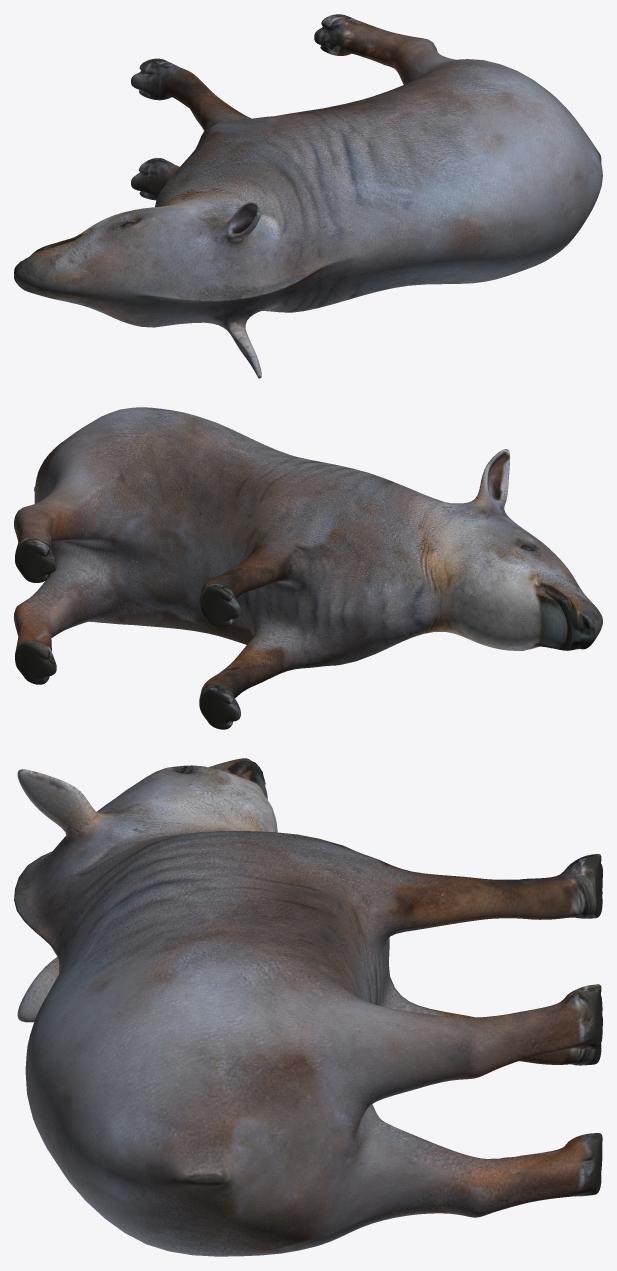
File: 12277_Tapir_v1_L2.obj
The picture shows the model from 3 angles, top to bottom: view 1: azimuth 30°, elevation 25°; view 2: azimuth 150°, elevation 25°; view 3: azimuth 270°, elevation 25°; orthographic projection. The views are drawn at different scales.
Parts seen in each view (by area): view 1: tapir; view 2: tapir; view 3: tapir.
Boxes of the visible parts, <box> form: tapir: <box>14,14,602,378</box>; tapir: <box>14,407,602,729</box>; tapir: <box>14,758,602,1256</box>.
Size of the model in its own units: 79.26 by 25.73 by 48.67.
1 material, 1 textured.
